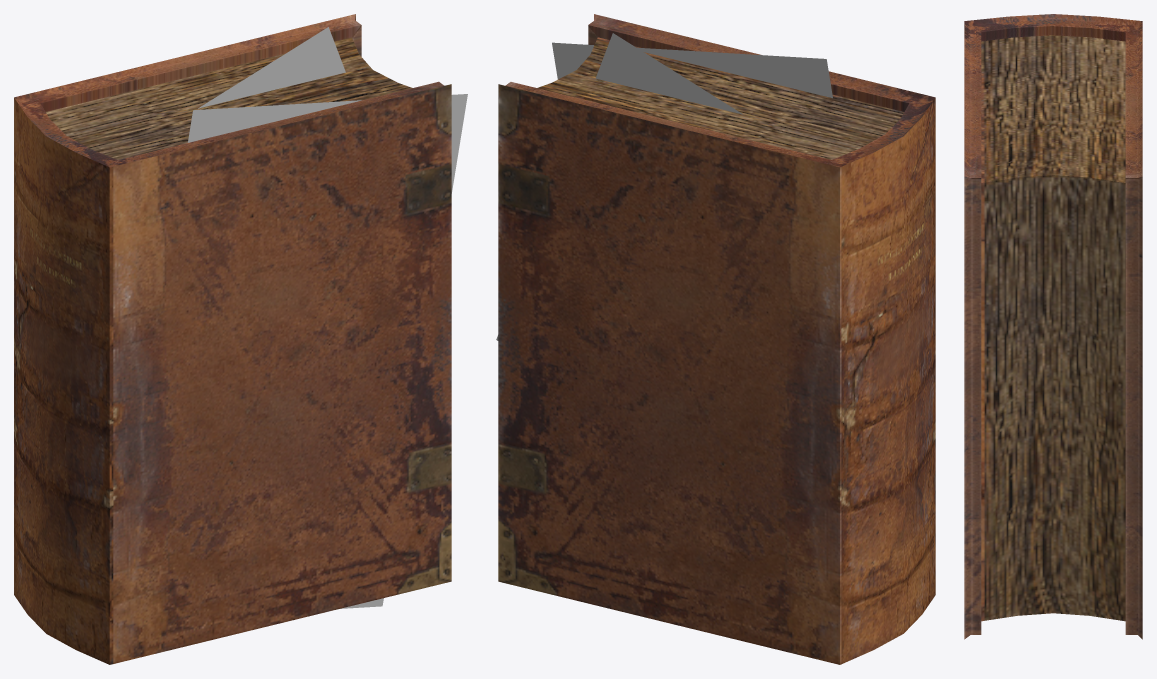
Rendered from Book4.FBX.
3 views of the same model, side by side, from view 1: azimuth 30°, elevation 25°; view 2: azimuth 150°, elevation 25°; view 3: azimuth 270°, elevation 25° (orthographic). The views are drawn at different scales.
Parts seen in each view (by area): view 1: Box03; view 2: Box03; view 3: Box03.
Boxes of the visible parts, x1,y1,x2,y2 form: Box03: [14, 14, 467, 664]; Box03: [496, 14, 935, 664]; Box03: [964, 14, 1142, 639].
Bounding box in the file's own units: 106 × 144 × 43.54.
